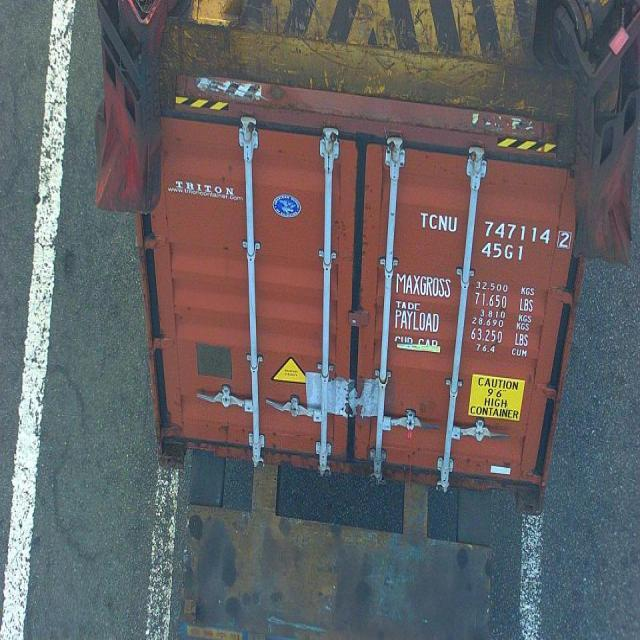ISO: (481, 243, 527, 261)
container_number: (423, 217, 573, 243)
